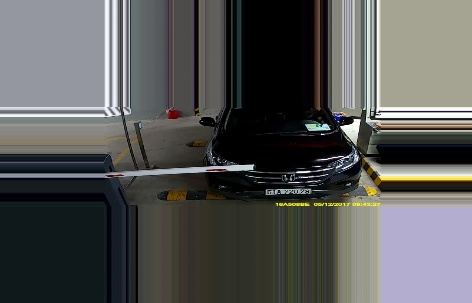plate: (263, 184, 310, 196)
